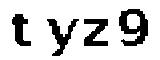9: (118, 4, 151, 48)
t: (8, 9, 36, 49)
y: (43, 15, 79, 60)
z: (82, 15, 112, 48)
